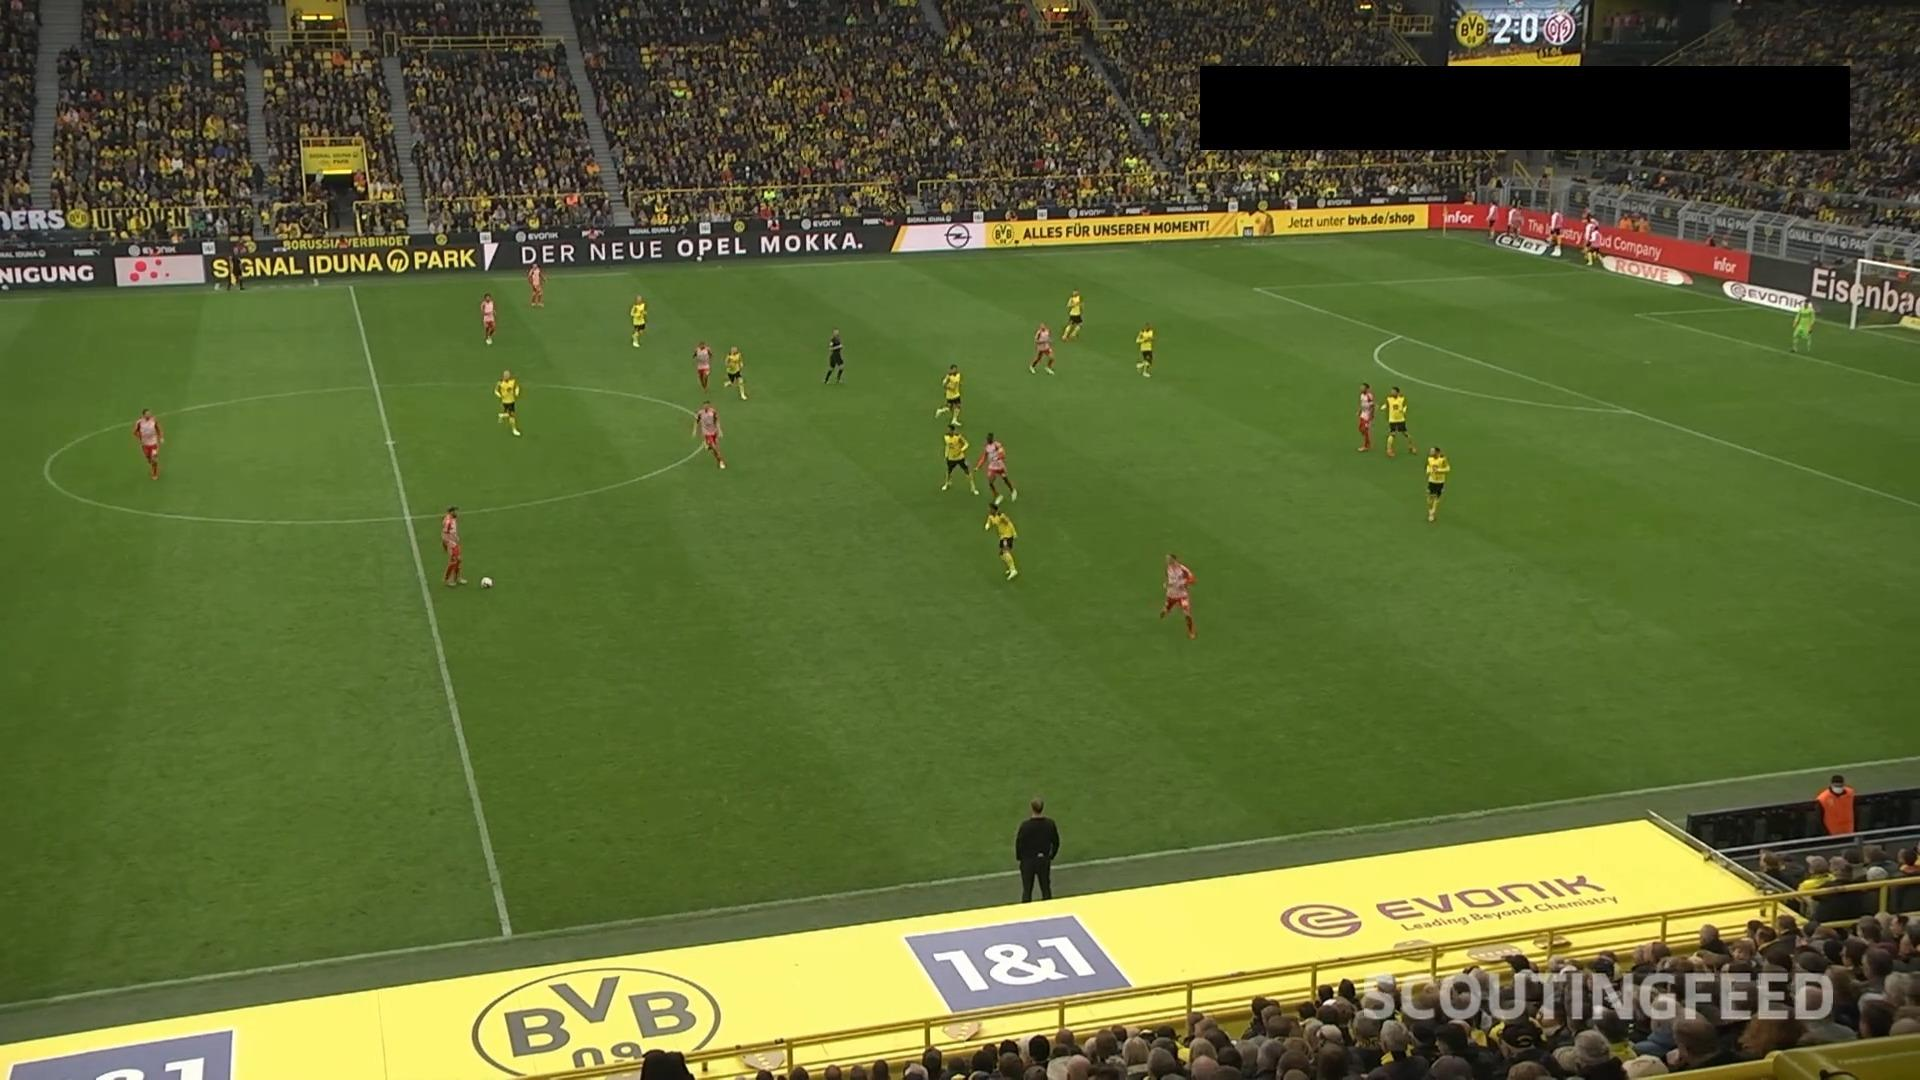ball: (479, 575, 495, 589)
